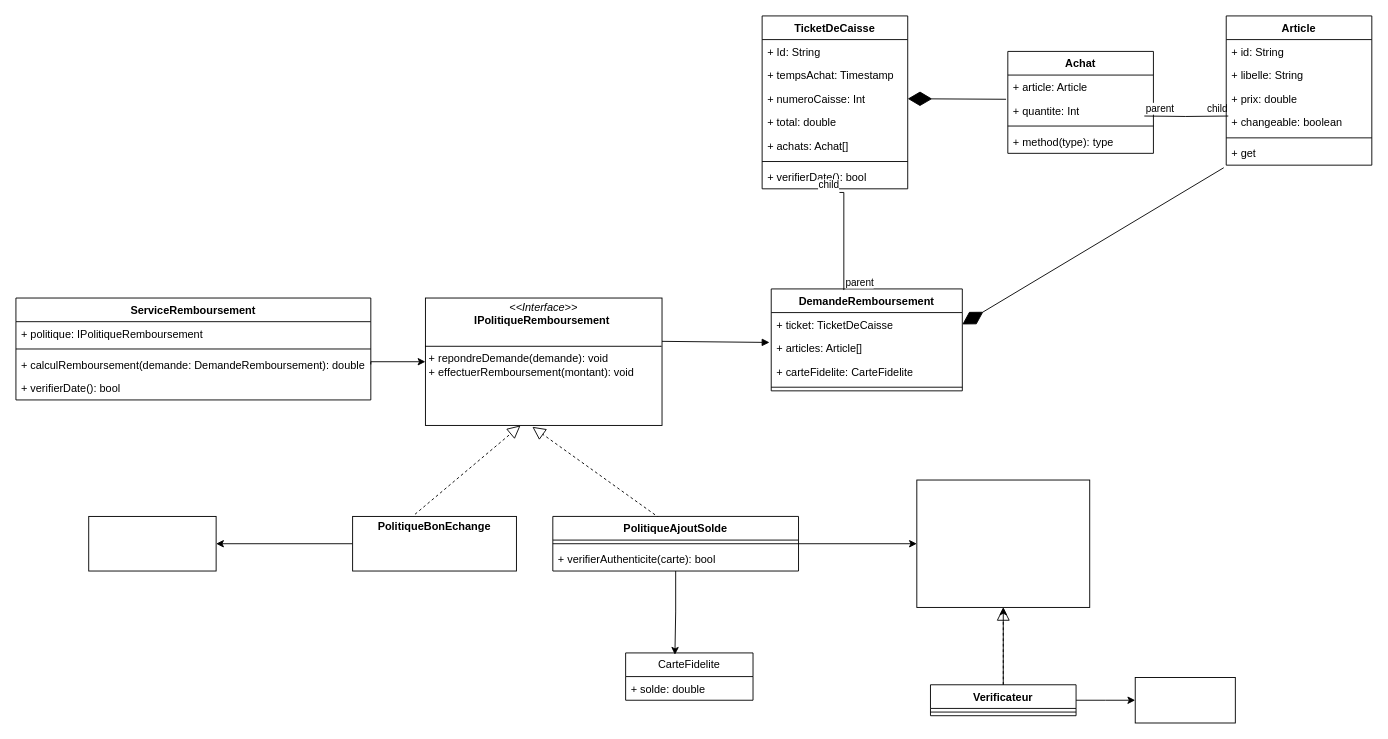
The diagram is 1388 pixels wide and 739 high, and some of its shapes have lost their labels. Each missing label, with the centre of its shape:
"<<Interface>> IServiceVerificationCarte + verifierAuthenticite(carte): bool" belongs at [1003,543].
"BonEchange" belongs at [152,543].
"Système de gestion de clients" belongs at [1184,700].
